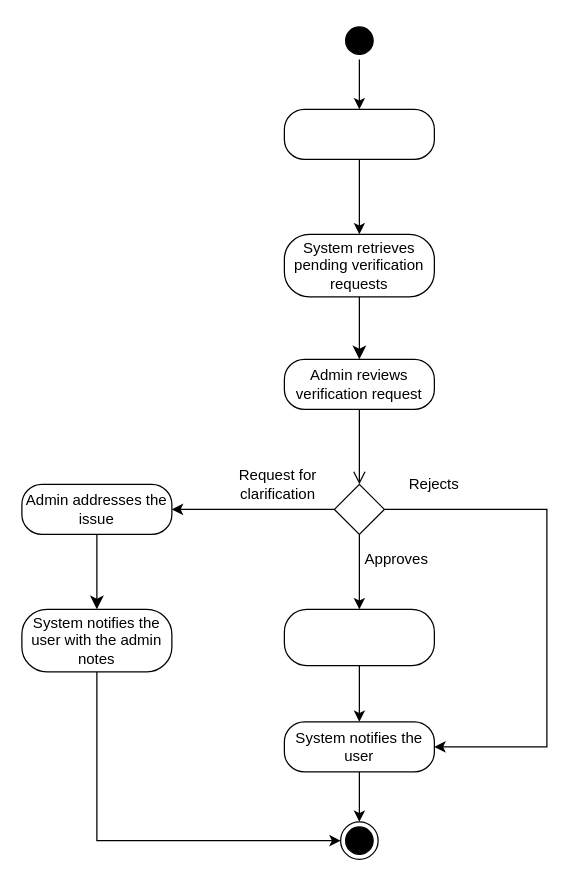
Some shapes in this 579 by 881 pixel diagram are drawn without their labels. Each missing label, with the centre of its shape:
Admin navigates to verifications page: the point at 358,133
System promotes user into a verified user: the point at 358,637
